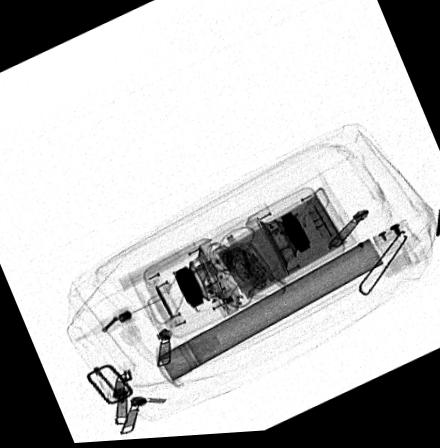Powerbank: (189, 192, 357, 321)
